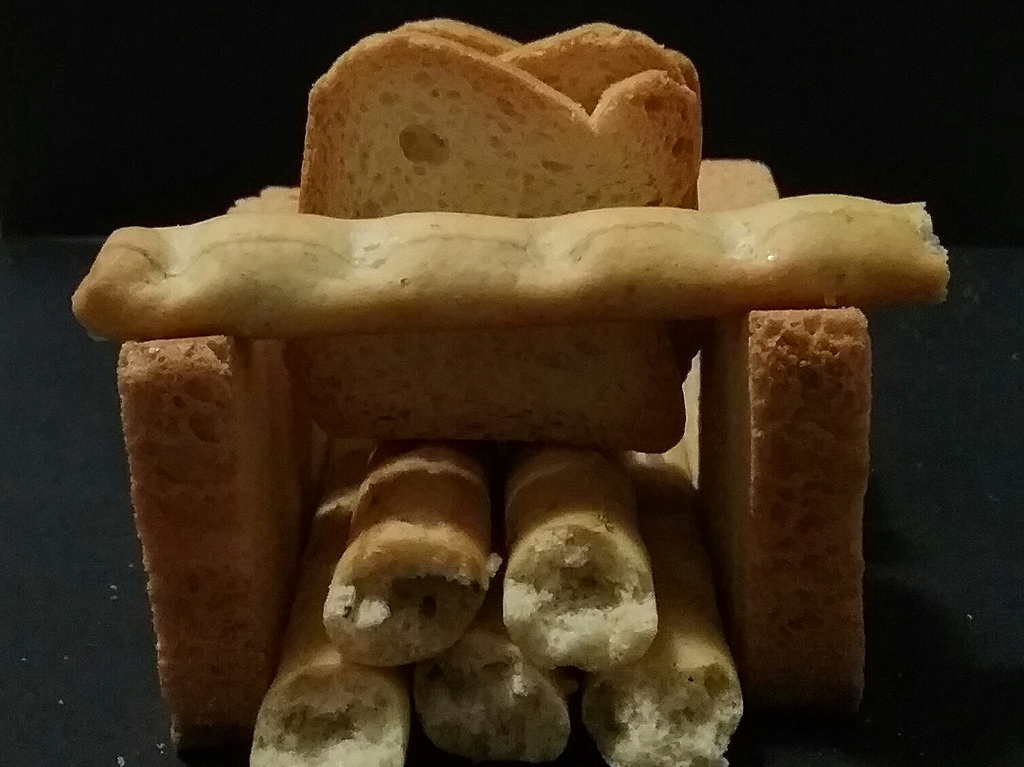slice of bread: (324, 67, 683, 444)
